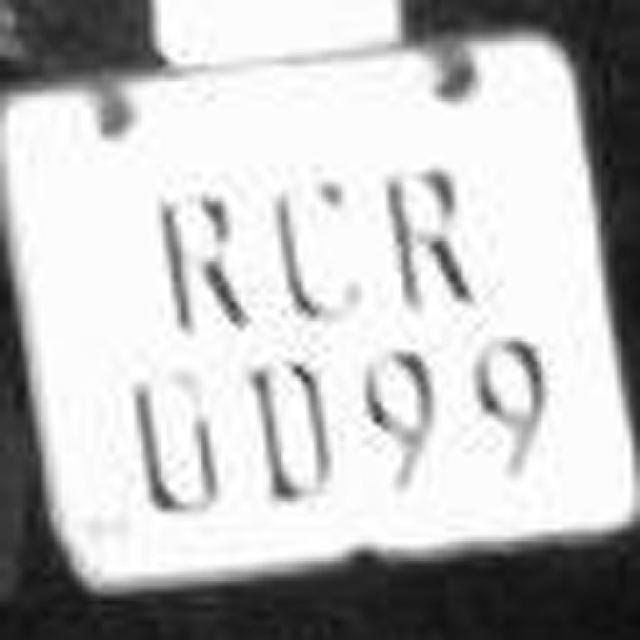9: (456, 308, 569, 524), (352, 332, 448, 512)
N: (364, 148, 491, 324), (148, 172, 260, 356)
U: (120, 335, 232, 540)
